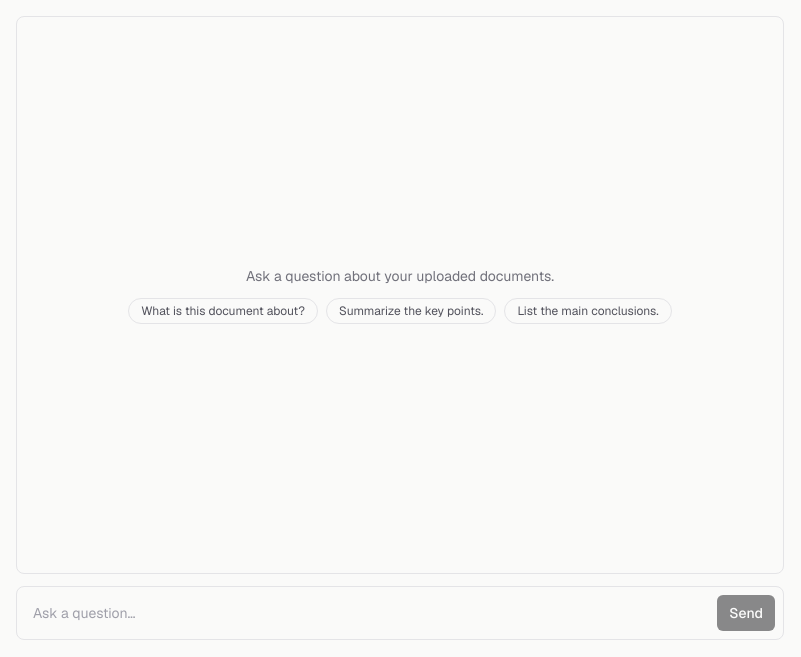
it: ChatClient › surfaces an error from the stream as a red assistant message
In the text box with placeholder "Ask a question…": (367,613) [25, 595, 709, 631], type "fallo"
Then press Enter
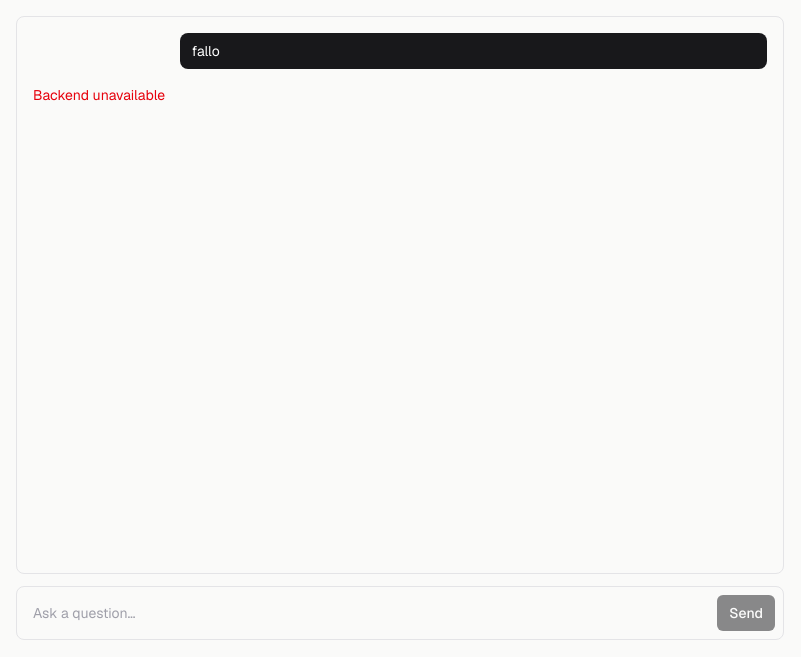
Result: the text "Backend unavailable" is shown at [33, 86, 165, 104]
